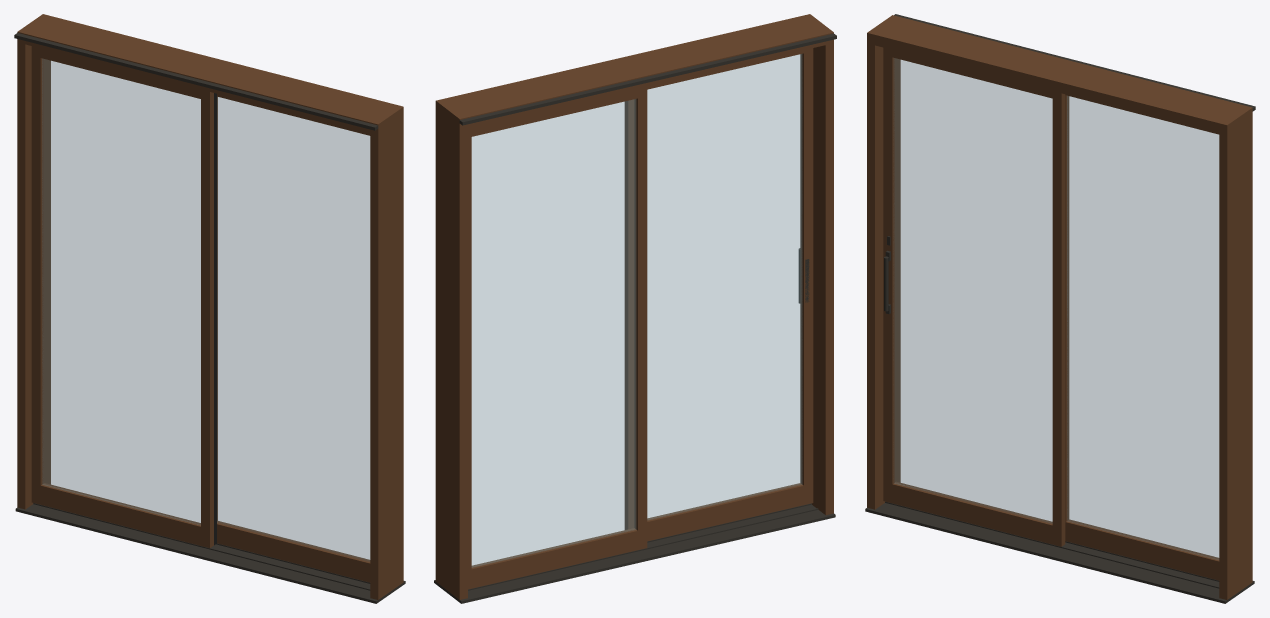
The model's file is door-bedroom-balcony-sliding.gltf.
3 views of the same model, side by side, from view 1: azimuth 90°, elevation 25°; view 2: azimuth 150°, elevation 25°; view 3: azimuth 270°, elevation 25° (orthographic).
Visible parts, largest first — view 1: Enclosure wall 09 balcony sliding door north fixed panel gla, Enclosure wall 09 balcony sliding door south moving panel gl, Enclosure wall 09 balcony sliding door south jamb, Enclosure wall 09 balcony sliding door head, Enclosure wall 09 balcony sliding door north jamb, Enclosure wall 09 balcony sliding door north fixed panel nor, Enclosure wall 09 balcony sliding door north fixed panel sou, Enclosure wall 09 balcony sliding door low threshold, Enclosure wall 09 balcony sliding door north fixed panel bot, Enclosure wall 09 balcony sliding door south moving panel bo, Enclosure wall 09 balcony sliding door exterior drip cap, Enclosure wall 09 balcony sliding door north fixed panel top (+3 smaller); view 2: Enclosure wall 09 balcony sliding door north fixed panel gla, Enclosure wall 09 balcony sliding door south moving panel gl, Enclosure wall 09 balcony sliding door north jamb, Enclosure wall 09 balcony sliding door head, Enclosure wall 09 balcony sliding door south jamb, Enclosure wall 09 balcony sliding door north fixed panel sou, Enclosure wall 09 balcony sliding door south moving panel so, Enclosure wall 09 balcony sliding door low threshold, Enclosure wall 09 balcony sliding door south moving panel no, Enclosure wall 09 balcony sliding door north fixed panel bot, Enclosure wall 09 balcony sliding door south moving panel bo, Enclosure wall 09 balcony sliding door exterior drip cap (+4 smaller); view 3: Enclosure wall 09 balcony sliding door south moving panel gl, Enclosure wall 09 balcony sliding door north fixed panel gla, Enclosure wall 09 balcony sliding door north jamb, Enclosure wall 09 balcony sliding door head, Enclosure wall 09 balcony sliding door south jamb, Enclosure wall 09 balcony sliding door south moving panel no, Enclosure wall 09 balcony sliding door low threshold, Enclosure wall 09 balcony sliding door south moving panel so, Enclosure wall 09 balcony sliding door south moving panel bo, Enclosure wall 09 balcony sliding door north fixed panel bot, Enclosure wall 09 balcony sliding door north fixed panel sou, Enclosure wall 09 balcony sliding door south moving panel to (+2 smaller).
Boxes of the visible parts, x1,y1,x2,y2 form: Enclosure wall 09 balcony sliding door north fixed panel gla: (42,58,200,524); Enclosure wall 09 balcony sliding door south moving panel gl: (217,97,369,561); Enclosure wall 09 balcony sliding door south jamb: (370,104,403,599); Enclosure wall 09 balcony sliding door head: (25,16,395,132); Enclosure wall 09 balcony sliding door north jamb: (17,14,50,509); Enclosure wall 09 balcony sliding door north fixed panel nor: (31,46,44,504); Enclosure wall 09 balcony sliding door north fixed panel sou: (201,89,213,547); Enclosure wall 09 balcony sliding door low threshold: (15,504,405,603); Enclosure wall 09 balcony sliding door north fixed panel bot: (40,483,200,545); Enclosure wall 09 balcony sliding door south moving panel bo: (217,521,370,582); Enclosure wall 09 balcony sliding door exterior drip cap: (14,33,378,130); Enclosure wall 09 balcony sliding door north fixed panel top: (40,48,200,98); Enclosure wall 09 balcony sliding door north fixed panel gla: (472,99,635,567); Enclosure wall 09 balcony sliding door south moving panel gl: (647,54,802,519); Enclosure wall 09 balcony sliding door north jamb: (435,99,467,599); Enclosure wall 09 balcony sliding door head: (444,16,825,127); Enclosure wall 09 balcony sliding door south jamb: (802,14,833,515); Enclosure wall 09 balcony sliding door north fixed panel sou: (634,86,647,549); Enclosure wall 09 balcony sliding door south moving panel so: (800,48,813,504); Enclosure wall 09 balcony sliding door low threshold: (434,504,835,603); Enclosure wall 09 balcony sliding door south moving panel no: (624,99,634,529); Enclosure wall 09 balcony sliding door north fixed panel bot: (471,528,637,588); Enclosure wall 09 balcony sliding door south moving panel bo: (647,483,803,541); Enclosure wall 09 balcony sliding door exterior drip cap: (459,33,836,125); Enclosure wall 09 balcony sliding door south moving panel gl: (894,58,1052,523); Enclosure wall 09 balcony sliding door north fixed panel gla: (1067,96,1218,559); Enclosure wall 09 balcony sliding door north jamb: (1219,105,1252,599); Enclosure wall 09 balcony sliding door head: (875,17,1244,133); Enclosure wall 09 balcony sliding door south jamb: (867,15,900,509); Enclosure wall 09 balcony sliding door south moving panel no: (1052,91,1065,546); Enclosure wall 09 balcony sliding door low threshold: (865,503,1254,603); Enclosure wall 09 balcony sliding door south moving panel so: (883,47,896,503); Enclosure wall 09 balcony sliding door south moving panel bo: (892,481,1052,544); Enclosure wall 09 balcony sliding door north fixed panel bot: (1065,519,1219,580); Enclosure wall 09 balcony sliding door north fixed panel sou: (1065,94,1069,540); Enclosure wall 09 balcony sliding door south moving panel to: (892,50,1052,98).
Bounding box in the file's own units: 1.15 × 2.25 × 1.67.
